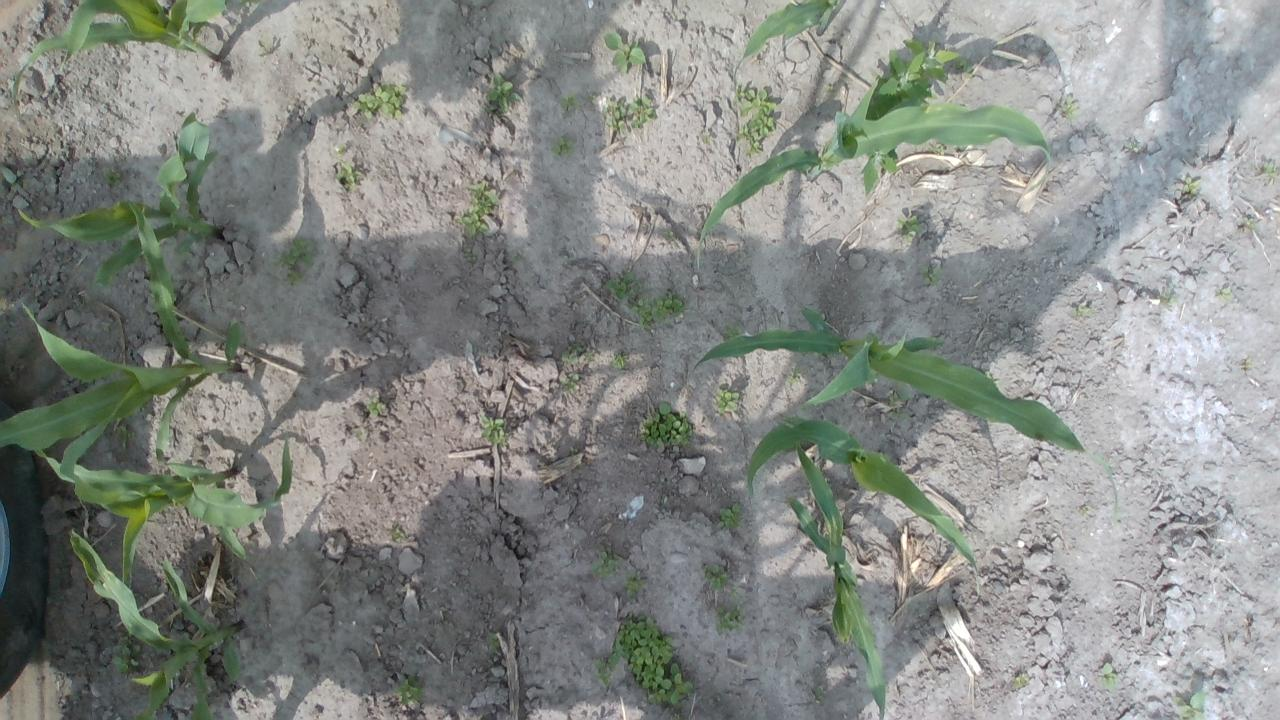Maize: (694, 307, 1119, 530), (0, 197, 247, 494), (694, 78, 1052, 270), (744, 412, 983, 594), (37, 437, 295, 588), (21, 108, 227, 292), (68, 527, 244, 720), (786, 441, 887, 720), (10, 0, 226, 111), (734, 0, 840, 85)
Weeds: (607, 614, 694, 710), (868, 35, 958, 108), (732, 81, 776, 156), (638, 402, 692, 450), (454, 182, 500, 238), (628, 292, 691, 330), (602, 94, 657, 136), (274, 235, 318, 286), (351, 84, 406, 118), (603, 31, 646, 74), (861, 147, 899, 195), (484, 72, 521, 112), (110, 635, 142, 675), (1172, 688, 1208, 720), (604, 273, 644, 301), (393, 672, 426, 704), (590, 546, 620, 578), (480, 415, 510, 446), (714, 605, 746, 633), (701, 564, 731, 592), (336, 161, 362, 191), (112, 420, 136, 452), (714, 502, 741, 530), (556, 90, 582, 119), (0, 165, 28, 190), (714, 387, 740, 413), (622, 571, 647, 597), (897, 214, 919, 242), (1098, 661, 1117, 691), (550, 134, 574, 157), (1057, 94, 1080, 118), (592, 658, 610, 686), (1158, 284, 1176, 310), (920, 264, 941, 286), (366, 397, 388, 417), (560, 343, 580, 364), (101, 166, 122, 186), (721, 322, 742, 340), (558, 374, 581, 390), (886, 392, 911, 406), (889, 407, 911, 422), (1070, 303, 1092, 318), (1012, 672, 1030, 690), (1182, 176, 1200, 194), (786, 364, 802, 384), (610, 352, 628, 369), (1216, 286, 1233, 303), (1264, 161, 1278, 179), (956, 57, 972, 72), (258, 38, 272, 55), (390, 528, 406, 542), (353, 426, 368, 440), (488, 635, 500, 652), (1125, 140, 1139, 154), (931, 142, 946, 155), (1242, 216, 1257, 229), (729, 586, 742, 600), (237, 0, 265, 6), (464, 248, 476, 262), (1080, 504, 1091, 517), (662, 231, 676, 241), (702, 132, 711, 145), (335, 144, 346, 154), (586, 92, 598, 101), (814, 686, 824, 696), (584, 352, 596, 360), (1244, 357, 1252, 369), (512, 252, 521, 262), (672, 713, 682, 720), (570, 446, 578, 454), (826, 85, 834, 91)
